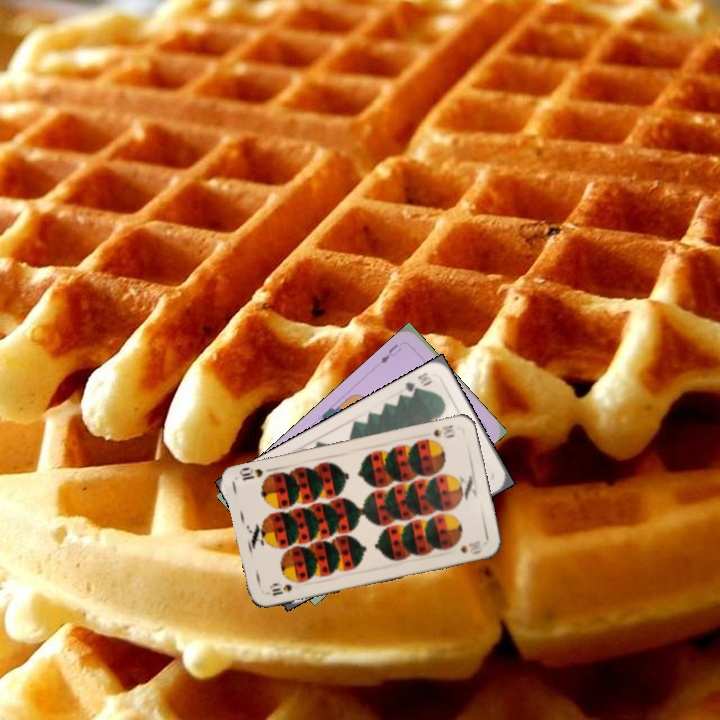EU: (376, 340, 404, 366)
G10: (400, 368, 434, 399)
S10: (266, 577, 302, 598), (430, 421, 457, 440)
